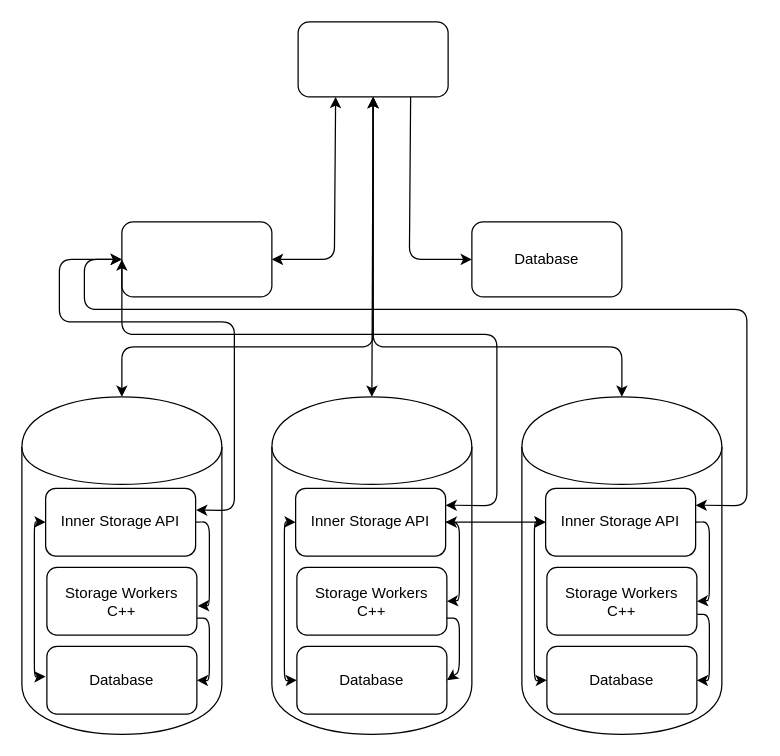
This 780x756 diagram has some shape labels left out. Each missing label, with the centre of its shape:
"RESTful API Python" goes at point 372,59.
"Syncing facilities" goes at point 196,259.
